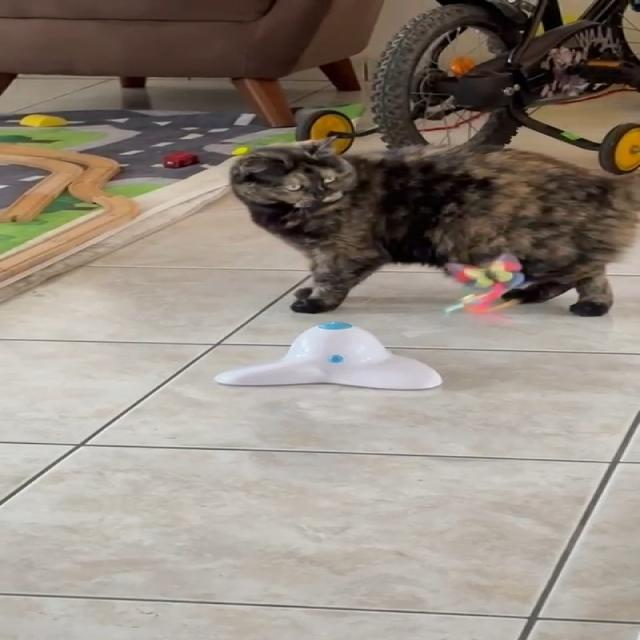authorized: (226, 134, 638, 317)
